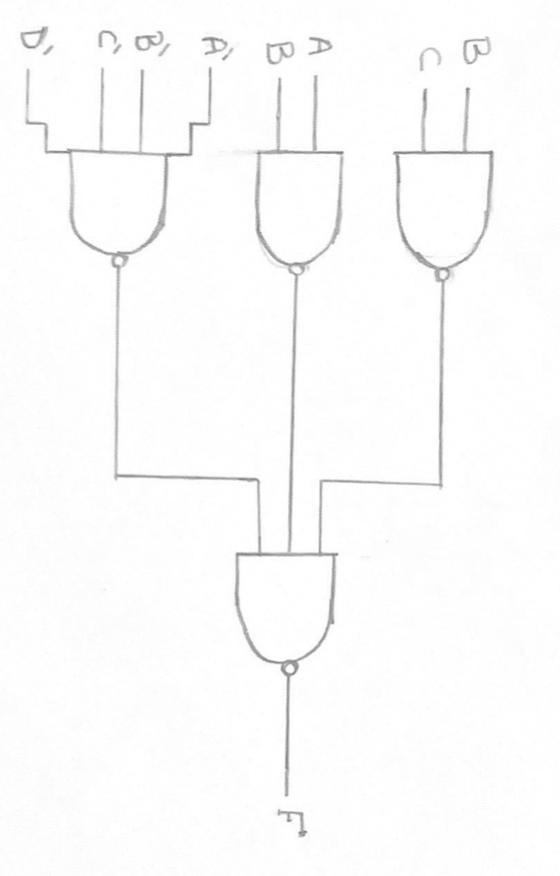NAND: (220, 537, 371, 695), (33, 140, 199, 272), (233, 135, 361, 294), (382, 132, 503, 290)
